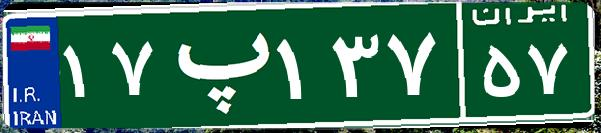1: (273, 28, 330, 110), (57, 26, 110, 107)
3: (330, 28, 385, 110)
5: (475, 38, 525, 113)
7: (385, 28, 445, 110), (110, 28, 158, 105), (525, 38, 570, 115)
پ: (158, 15, 273, 115)
